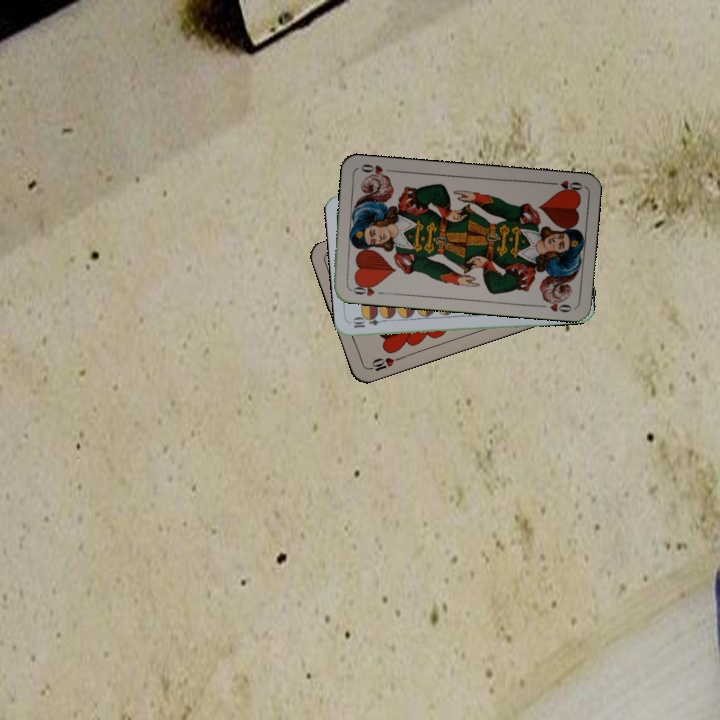E10: (349, 314, 390, 331)
H10: (363, 353, 403, 374)
HO: (346, 279, 387, 299), (544, 176, 585, 196)
